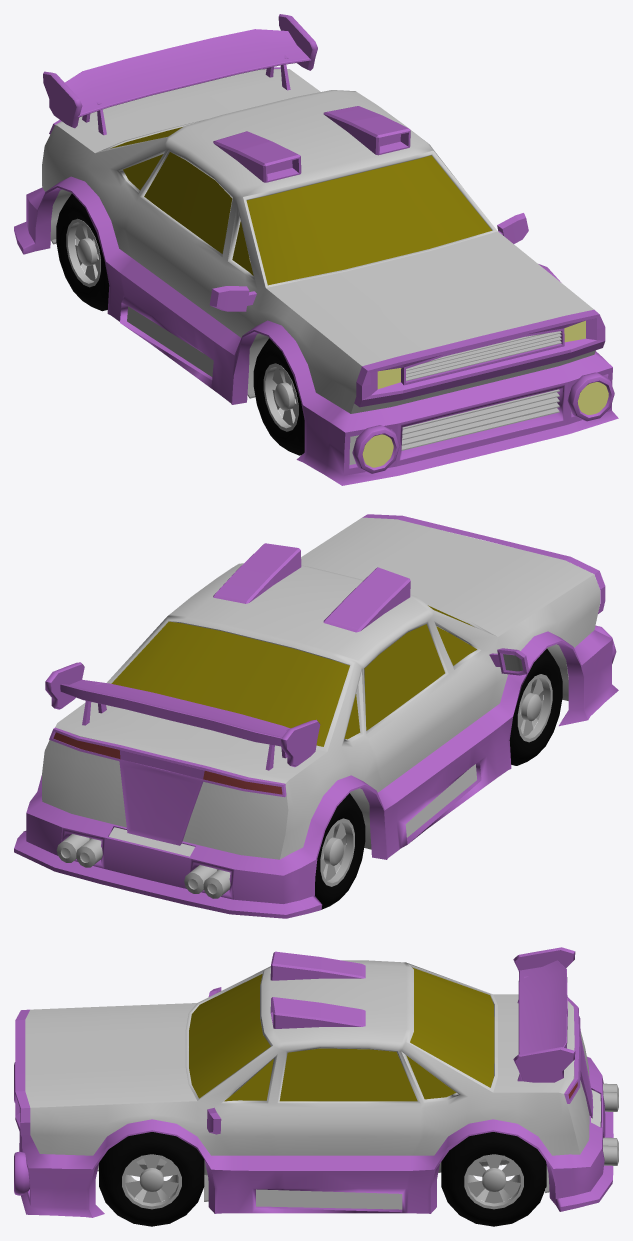
3 views of the same model, one above another, from view 1: azimuth 30°, elevation 25°; view 2: azimuth 150°, elevation 25°; view 3: azimuth 270°, elevation 25° (orthographic). The views are drawn at different scales.
Parts seen in each view (by area): view 1: evo4_sillPartR_f1_dupl, evo4_evo4_polySurface1_f1_dupl, evo4_frontGlass_f1_dupl, evo4_Spoiler4_f1_dupl, evo4_frontBlockGrid_f1_dupl, evo4_glasseBigR_f1_dupl, evo4_front_down_grid_f1_dupl, evo4_airtrap_r_f1_dupl, evo4_airtrap_l_f1_dupl, evo4_front_up_grid_f1_dupl, evo4_tire_rf_f1_dupl, evo4_tire_rf2_f1_dupl (+9 smaller); view 2: evo4_sillPartR_f1_dupl, evo4_evo4_polySurface1_f1_dupl, evo4_BackGlassGlass_f1_dupl, evo4_Spoiler4_f1_dupl, evo4_blockBackLights_f1_dupl, evo4_glasseBigR_f1_dupl, evo4_airtrap_r_f1_dupl, evo4_airtrap_l_f1_dupl, evo4_tire_rf2_f1_dupl, evo4_tire_rf_f1_dupl, evo4_rim_A_rf_f1_dupl, evo4_rim_A_rb_f1_dupl (+7 smaller); view 3: evo4_sillPartR_f1_dupl, evo4_evo4_polySurface1_f1_dupl, evo4_BackGlassGlass_f1_dupl, evo4_Spoiler4_f1_dupl, evo4_glasseBigL_f1_dupl, evo4_frontGlass_f1_dupl, evo4_tire_lf_f1_dupl, evo4_tire_lb_f1_dupl, evo4_rim_A_lf_f1_dupl, evo4_rim_A_lb_f1_dupl, evo4_airtrap_l_f1_dupl, evo4_airtrap_r_f1_dupl (+7 smaller).
Boxes of the visible parts, left/top/right/bottom form: evo4_sillPartR_f1_dupl: left=42, top=69, right=595, bottom=464; evo4_evo4_polySurface1_f1_dupl: left=14, top=176, right=618, bottom=485; evo4_frontGlass_f1_dupl: left=246, top=155, right=491, bottom=285; evo4_Spoiler4_f1_dupl: left=43, top=14, right=317, bottom=135; evo4_frontBlockGrid_f1_dupl: left=354, top=309, right=605, bottom=407; evo4_glasseBigR_f1_dupl: left=144, top=152, right=232, bottom=253; evo4_front_down_grid_f1_dupl: left=401, top=389, right=559, bottom=450; evo4_airtrap_r_f1_dupl: left=213, top=131, right=301, bottom=182; evo4_airtrap_l_f1_dupl: left=323, top=106, right=410, bottom=155; evo4_front_up_grid_f1_dupl: left=406, top=331, right=561, bottom=381; evo4_tire_rf_f1_dupl: left=56, top=194, right=109, bottom=311; evo4_tire_rf2_f1_dupl: left=253, top=338, right=304, bottom=455; evo4_sillPartR_f1_dupl: left=42, top=517, right=599, bottom=870; evo4_evo4_polySurface1_f1_dupl: left=14, top=630, right=618, bottom=918; evo4_BackGlassGlass_f1_dupl: left=111, top=621, right=349, bottom=746; evo4_Spoiler4_f1_dupl: left=45, top=662, right=320, bottom=770; evo4_blockBackLights_f1_dupl: left=49, top=727, right=286, bottom=845; evo4_glasseBigR_f1_dupl: left=364, top=624, right=444, bottom=730; evo4_airtrap_r_f1_dupl: left=323, top=567, right=410, bottom=632; evo4_airtrap_l_f1_dupl: left=213, top=543, right=301, bottom=603; evo4_tire_rf2_f1_dupl: left=509, top=648, right=562, bottom=765; evo4_tire_rf_f1_dupl: left=315, top=793, right=365, bottom=909; evo4_rim_A_rf_f1_dupl: left=517, top=674, right=552, bottom=742; evo4_rim_A_rb_f1_dupl: left=320, top=818, right=354, bottom=886; evo4_sillPartR_f1_dupl: left=25, top=960, right=600, bottom=1209; evo4_evo4_polySurface1_f1_dupl: left=19, top=1056, right=613, bottom=1217; evo4_BackGlassGlass_f1_dupl: left=410, top=967, right=494, bottom=1087; evo4_Spoiler4_f1_dupl: left=513, top=947, right=575, bottom=1082; evo4_glasseBigL_f1_dupl: left=279, top=1048, right=417, bottom=1101; evo4_frontGlass_f1_dupl: left=189, top=974, right=270, bottom=1098; evo4_tire_lf_f1_dupl: left=99, top=1132, right=204, bottom=1226; evo4_tire_lb_f1_dupl: left=441, top=1132, right=546, bottom=1226; evo4_rim_A_lf_f1_dupl: left=122, top=1154, right=181, bottom=1209; evo4_rim_A_lb_f1_dupl: left=464, top=1154, right=523, bottom=1209; evo4_airtrap_l_f1_dupl: left=270, top=997, right=365, bottom=1028; evo4_airtrap_r_f1_dupl: left=270, top=951, right=365, bottom=980.
Size of the model in its own units: 177 by 120 by 337.
